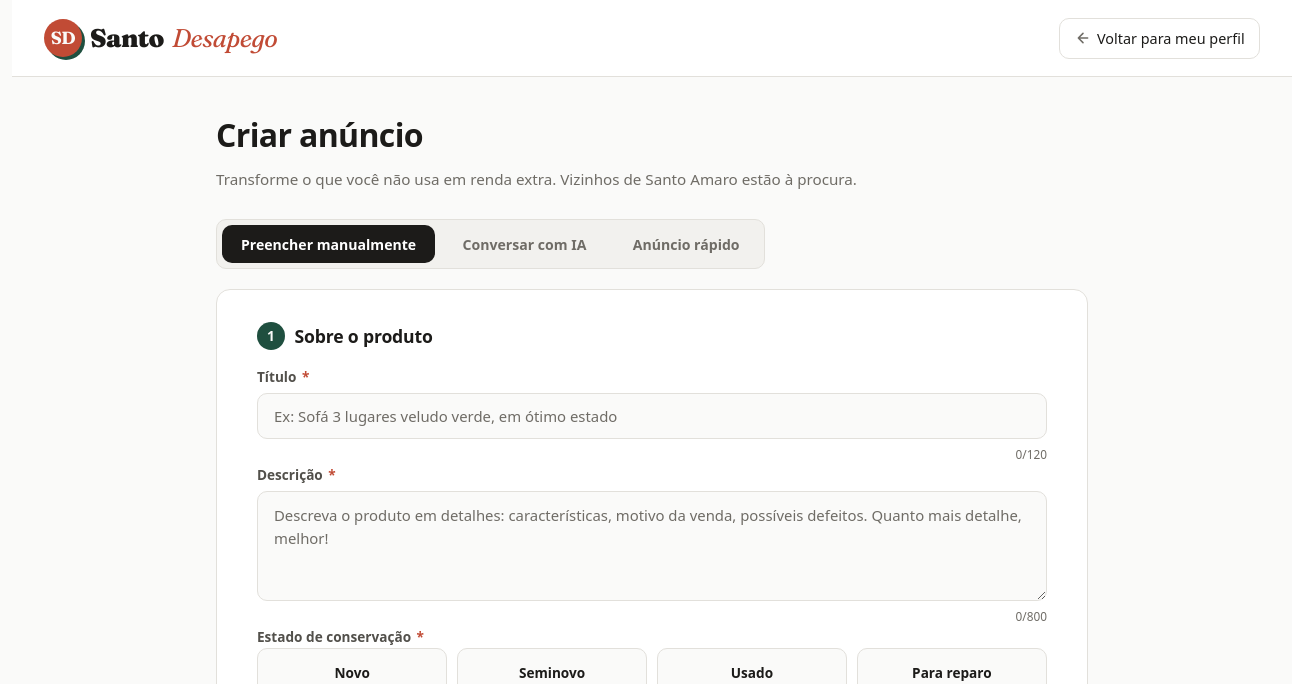
Test: RF06 - Anúncio de Produtos › descrição curta não é publicada
Expected: the heading "Criar anúncio" is shown, [216, 113, 423, 156]
In the field with placeholder "Ex: Sofá 3 lugares veludo verde, em ótimo estado": coordinates (652, 416) [257, 393, 1047, 439], type "Sofá 3 lugares"
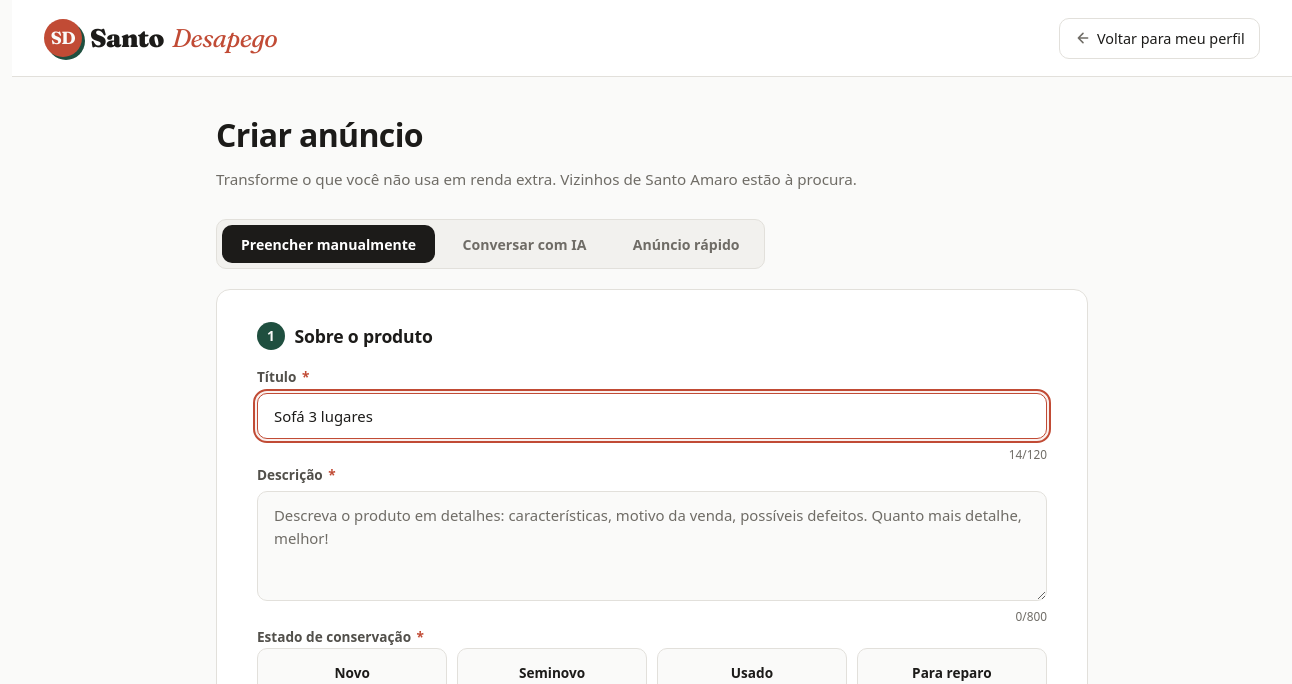
In the text box with placeholder "Descreva o produto": coordinates (652, 546) [257, 491, 1047, 601], type "Sofá bom"
(page scrolled)
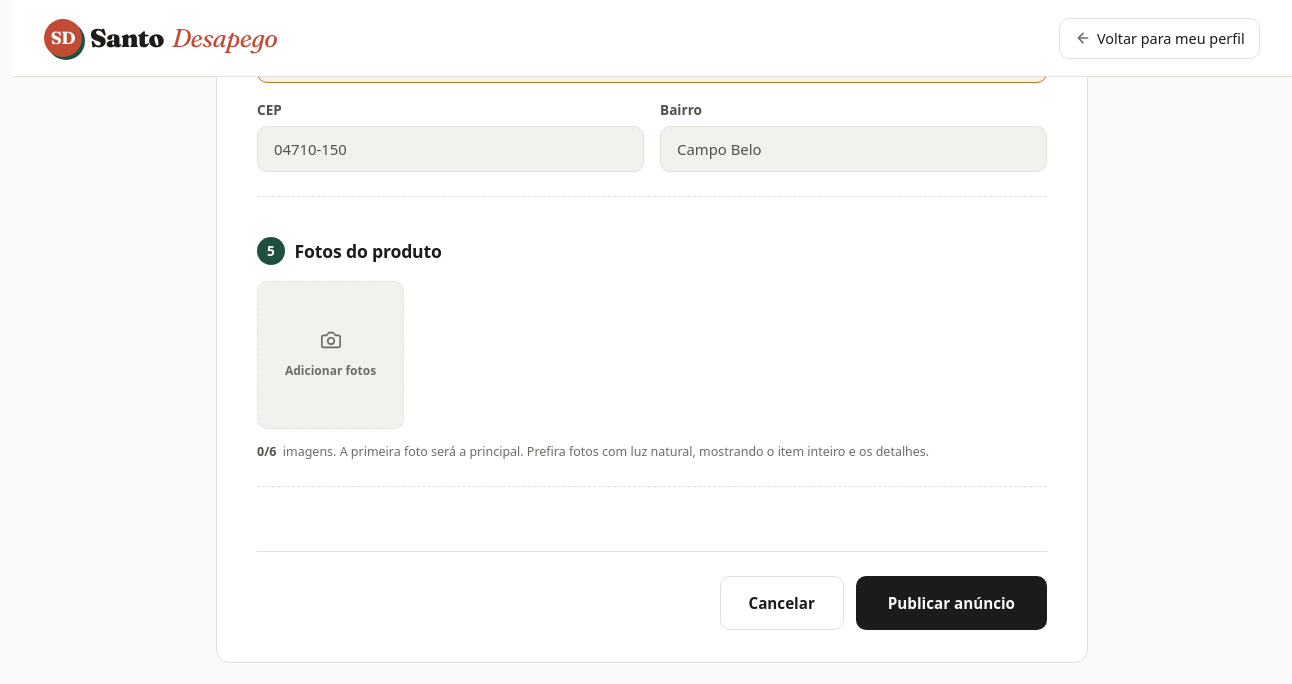
Click the button "Publicar anúncio": coordinates (951, 603) [856, 576, 1047, 630]
(page scrolled)
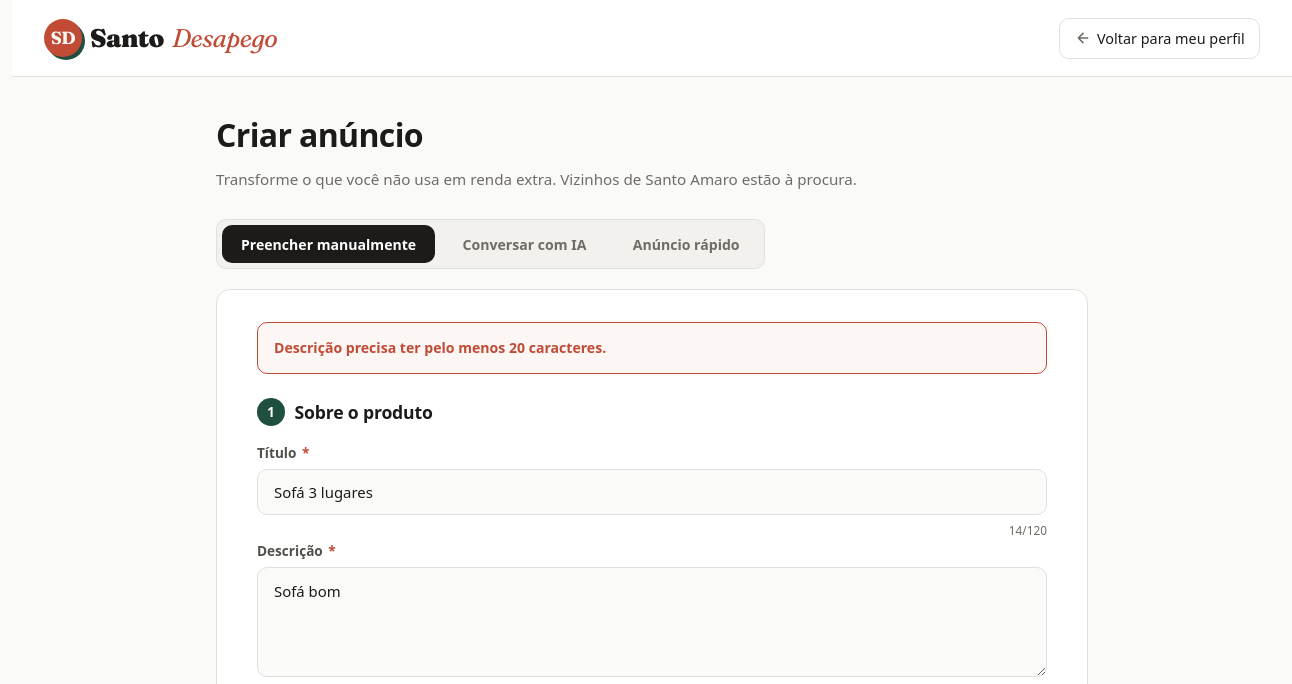
Expected: the text "Descrição precisa ter pelo menos 20 caracteres." is shown, [274, 336, 606, 359]
